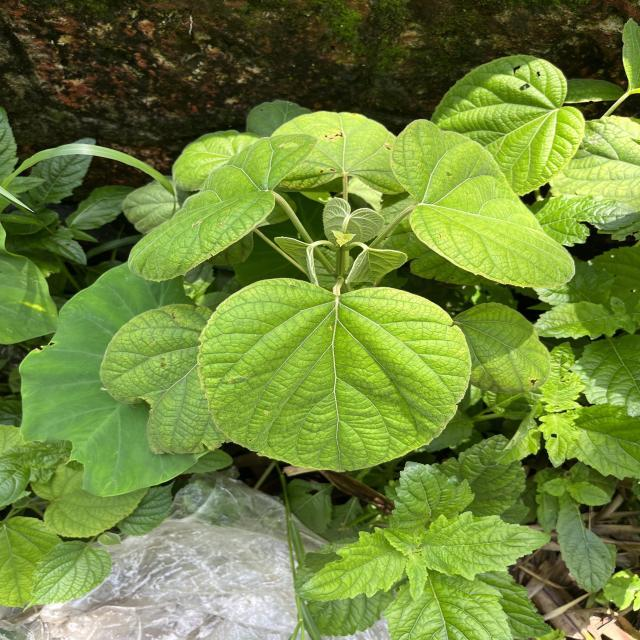Clerodendrum infortunatum: (197, 276, 474, 474), (388, 118, 579, 292), (124, 132, 320, 284), (433, 55, 587, 199), (453, 300, 554, 396)
